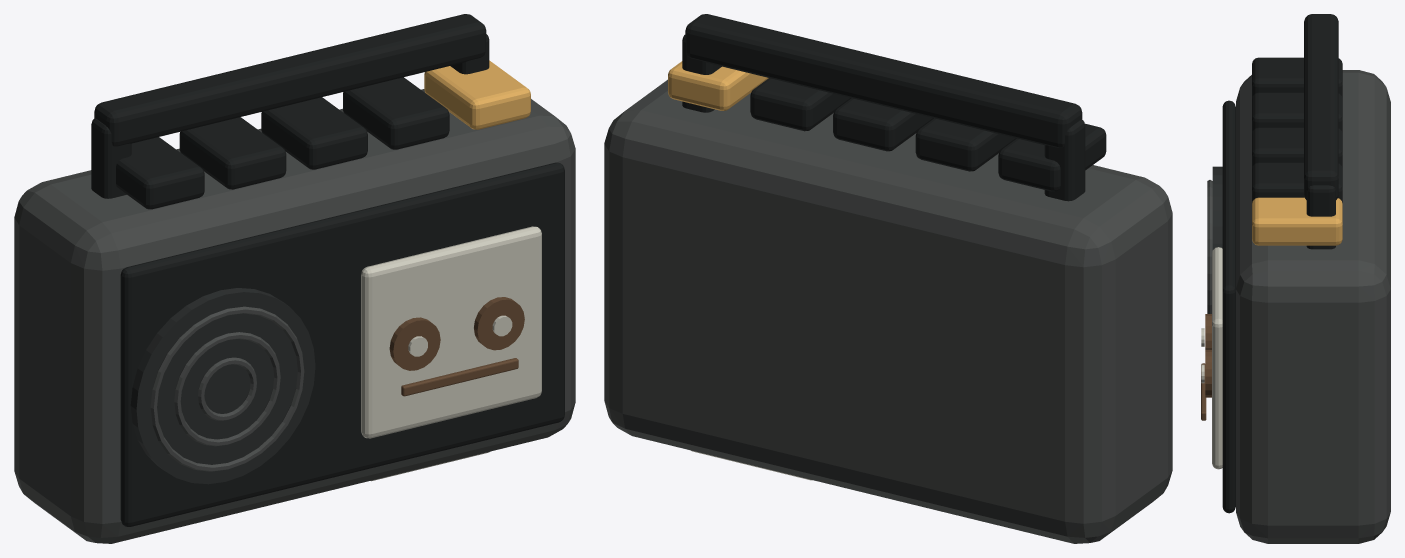
The model's file is recorder-v1-YS5p1xQn.glb.
The picture shows the model from 3 angles, left to right: view 1: azimuth 30°, elevation 25°; view 2: azimuth 150°, elevation 25°; view 3: azimuth 270°, elevation 25°; orthographic projection. The views are drawn at different scales.
Parts seen in each view (by area): view 1: Rounded recorder body, Front control panel, Cassette door, Speaker diaphragm, Carry handle, Transport key 2, Transport key 4, Transport key 3, Record key, Transport key 1, Speaker relief ring 3, Speaker relief ring 2 (+5 smaller); view 2: Rounded recorder body, Carry handle, Transport key 2, Transport key 4, Transport key 3, Transport key 1, Record key, Handle mount, Handle mount.001; view 3: Rounded recorder body, Carry handle, Front control panel, Record key, Cassette door, Transport key 4, Transport key 1, Transport key 2, Transport key 3, Handle mount.001, Speaker diaphragm, Speaker relief ring 3 (+3 smaller).
Boxes of the visible parts, x1,y1,x2,y2 form: Rounded recorder body: (14, 89, 575, 543); Front control panel: (120, 162, 564, 526); Cassette door: (361, 226, 541, 438); Speaker diaphragm: (130, 288, 315, 484); Carry handle: (94, 14, 486, 146); Transport key 2: (179, 117, 286, 189); Transport key 4: (343, 77, 449, 149); Transport key 3: (261, 97, 367, 169); Record key: (424, 60, 530, 129); Transport key 1: (116, 137, 204, 209); Speaker relief ring 3: (150, 306, 304, 471); Speaker relief ring 2: (174, 332, 280, 446); Rounded recorder body: (604, 79, 1172, 543); Carry handle: (685, 14, 1082, 147); Transport key 2: (915, 118, 1016, 171); Transport key 4: (750, 78, 851, 131); Transport key 3: (833, 98, 933, 151); Transport key 1: (998, 123, 1106, 191); Record key: (668, 61, 768, 110); Handle mount: (1044, 119, 1085, 201); Handle mount.001: (682, 35, 721, 112); Rounded recorder body: (1236, 70, 1390, 543); Carry handle: (1304, 14, 1338, 199); Front control panel: (1222, 100, 1235, 513); Record key: (1252, 197, 1342, 245); Cassette door: (1212, 247, 1222, 469); Transport key 4: (1252, 162, 1342, 202); Transport key 1: (1252, 57, 1342, 97); Transport key 2: (1252, 92, 1342, 132); Transport key 3: (1252, 127, 1342, 167); Handle mount.001: (1306, 185, 1335, 249); Speaker diaphragm: (1212, 166, 1222, 249); Speaker relief ring 3: (1207, 180, 1212, 313).
Bounding box in the file's own units: 1.9 × 1.52 × 0.71.
